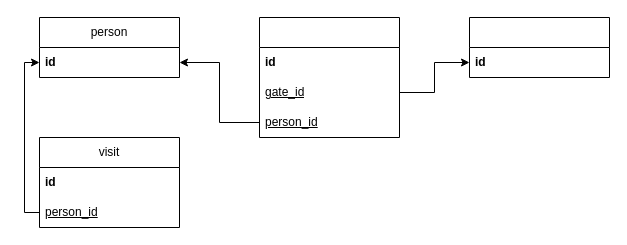
Image size: 627x245. Some labels were removed from this diagram. Here are the shapes that lost their labels. From the top down, the box of each, then its label:
(468, 16, 610, 78): gate
(258, 16, 400, 138): access_record
